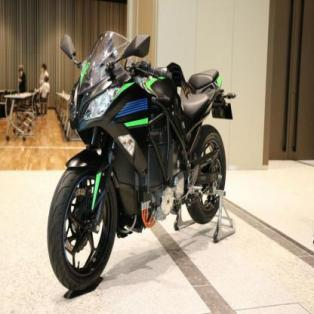Motocicleta: (45, 29, 234, 294)
